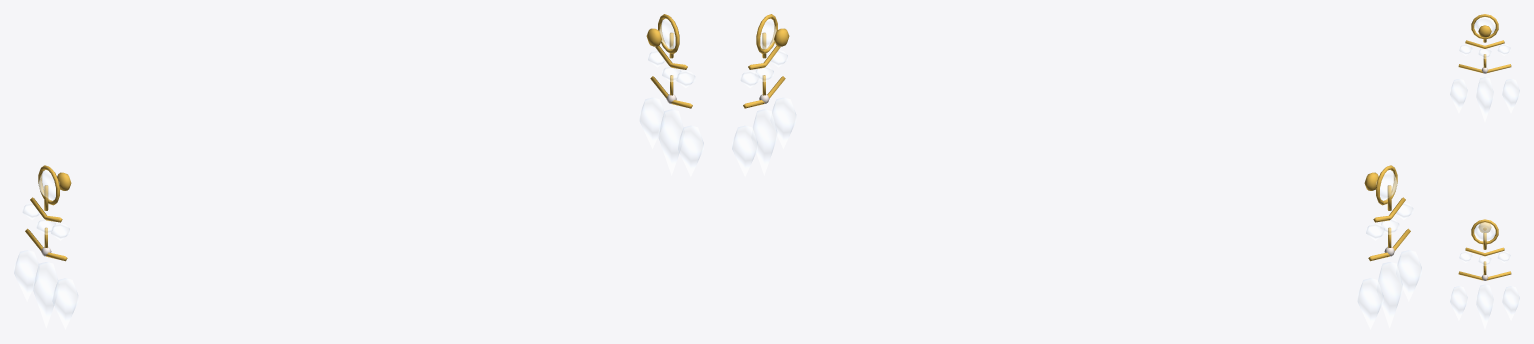
Rendered from chandelier_drops.glb.
3 views of the same model, side by side, from view 1: azimuth 30°, elevation 25°; view 2: azimuth 150°, elevation 25°; view 3: azimuth 270°, elevation 25° (orthographic). The views are drawn at different scales.
Visible parts, largest first — view 1: chandelier_drops; view 2: chandelier_drops; view 3: chandelier_drops.
Part boxes in pixels (<box>): chandelier_drops: <box>14,14,703,329</box>; chandelier_drops: <box>732,14,1421,329</box>; chandelier_drops: <box>1450,14,1519,328</box>.
Bounding box in the file's own units: 0.2256 × 0.0534 × 0.0308.
